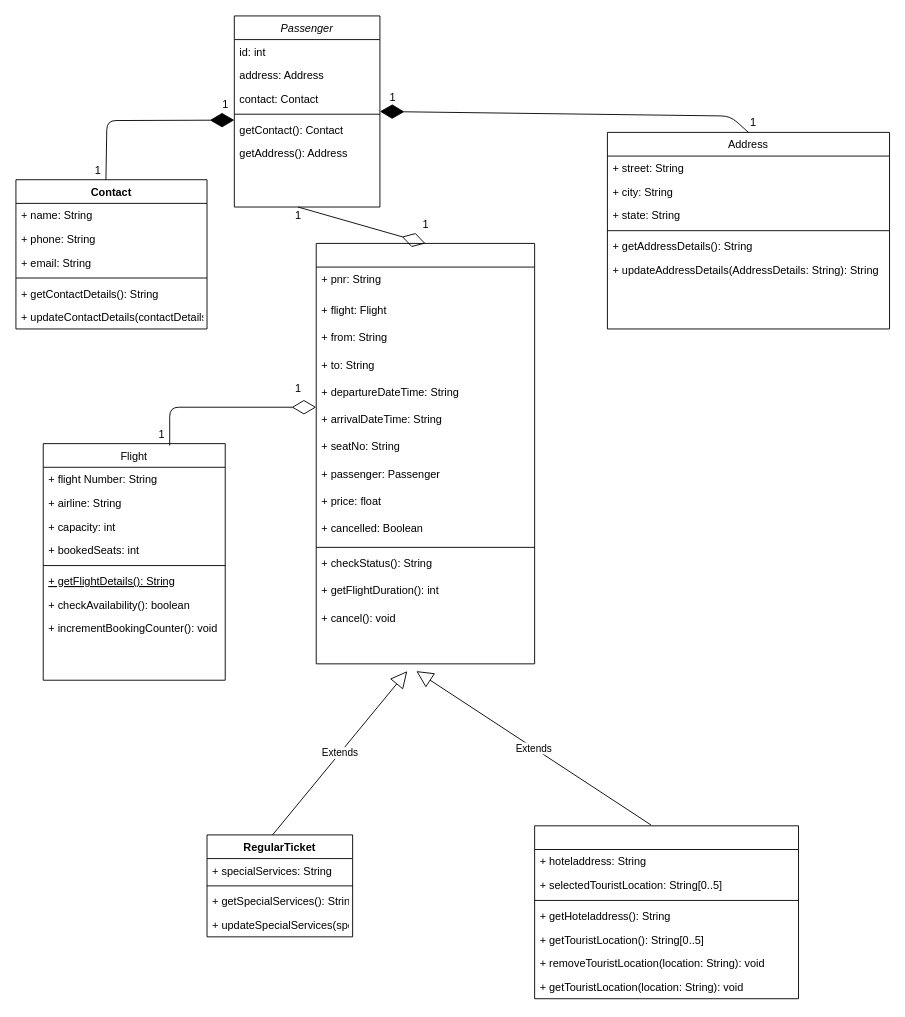
This 905x1017 diagram has some shape labels left out. Each missing label, with the box of its shape:
Tickets: (315, 243, 535, 664)
TouristTicket: (534, 825, 799, 999)
